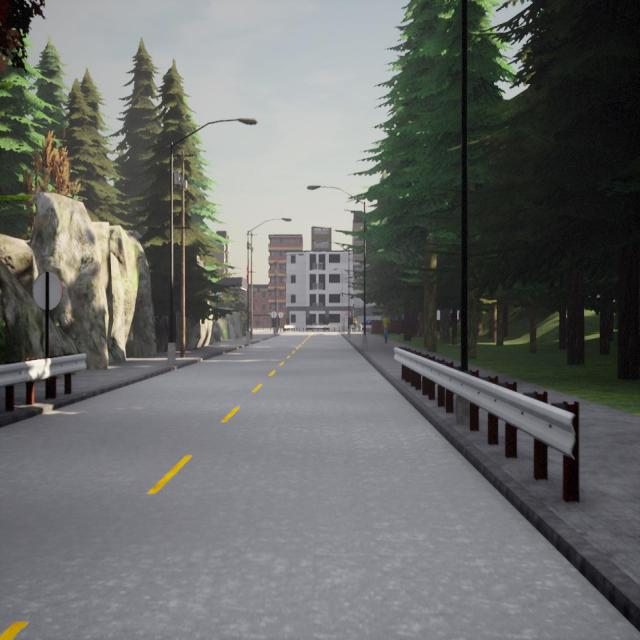Pedestrian: (381, 312, 392, 345), (352, 314, 358, 334)
Traffic_Signs: (34, 270, 62, 313), (271, 311, 277, 318), (278, 312, 284, 318)
Vehicle: (362, 320, 372, 326)
